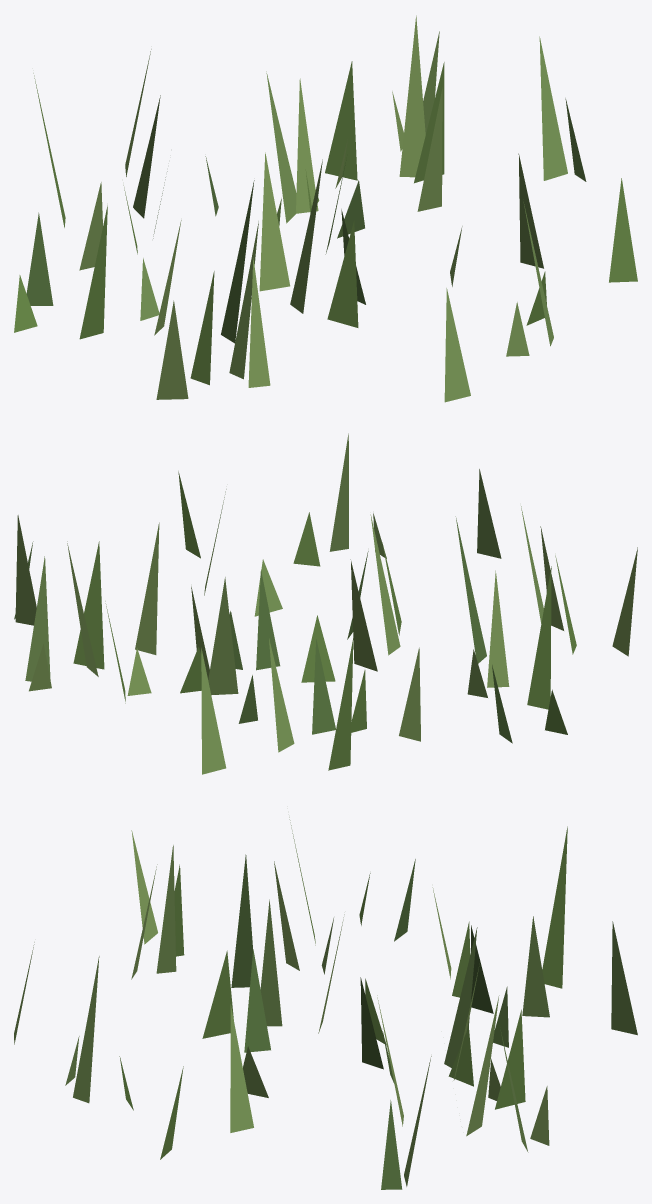
Rendered from grass-lowpoly.glb.
3 renders of one model, top to bottom at view 1: azimuth 30°, elevation 25°; view 2: azimuth 150°, elevation 25°; view 3: azimuth 270°, elevation 25°, orthographic. The views are drawn at different scales.
Parts seen in each view (by area): view 1: grass-lowpoly; view 2: grass-lowpoly; view 3: grass-lowpoly.
Part boxes in pixels (x1,y1,x2,y2): grass-lowpoly: [14, 15, 637, 402]; grass-lowpoly: [14, 433, 637, 774]; grass-lowpoly: [14, 817, 637, 1189].
Size of the model in its own units: 1.6 by 0.4063 by 1.53.
